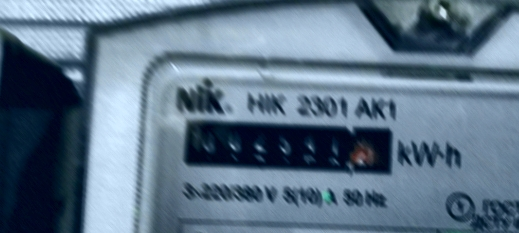0: (198, 126, 217, 153), (226, 125, 241, 152)
1: (326, 128, 340, 156)
2: (250, 126, 267, 152)
4: (302, 128, 316, 152)
5: (275, 126, 294, 155)
6: (352, 147, 368, 165)
screen: (171, 103, 407, 186)
